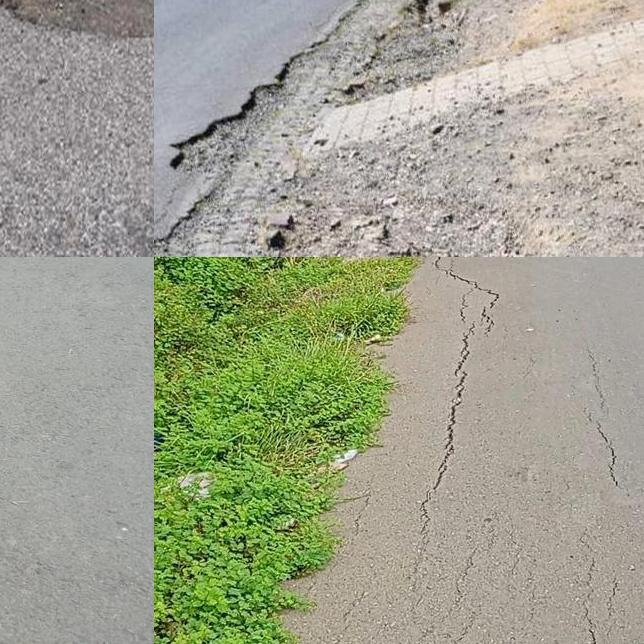Lubang: (0, 0, 154, 40)
Memanjang: (412, 270, 508, 527)
Pinggir: (154, 0, 449, 257)
